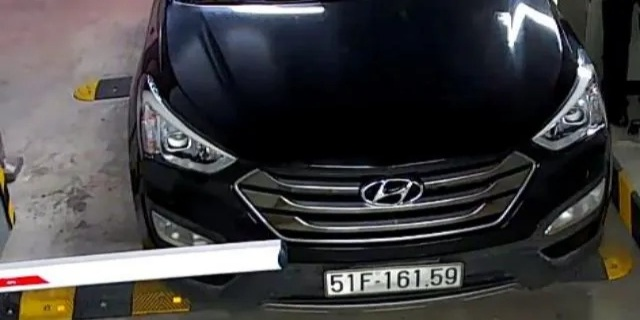bien_so: (325, 266, 462, 295)
